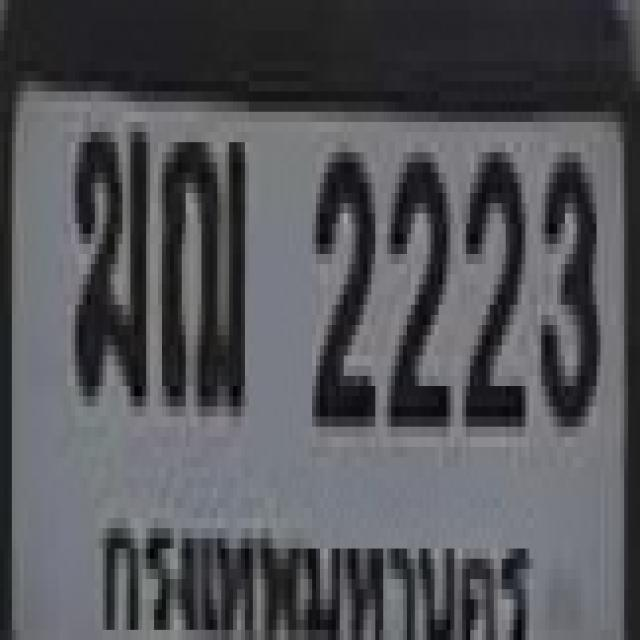2: (458, 142, 522, 417), (308, 142, 372, 417), (384, 142, 446, 417)
3: (537, 142, 597, 417)
A06: (71, 122, 146, 396)
A12: (158, 132, 245, 406)
BKK: (90, 505, 540, 640)
